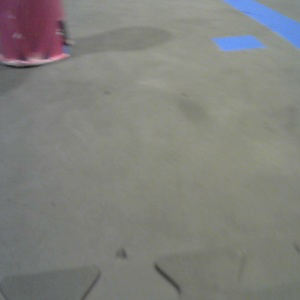middle: (1, 1, 72, 67)
